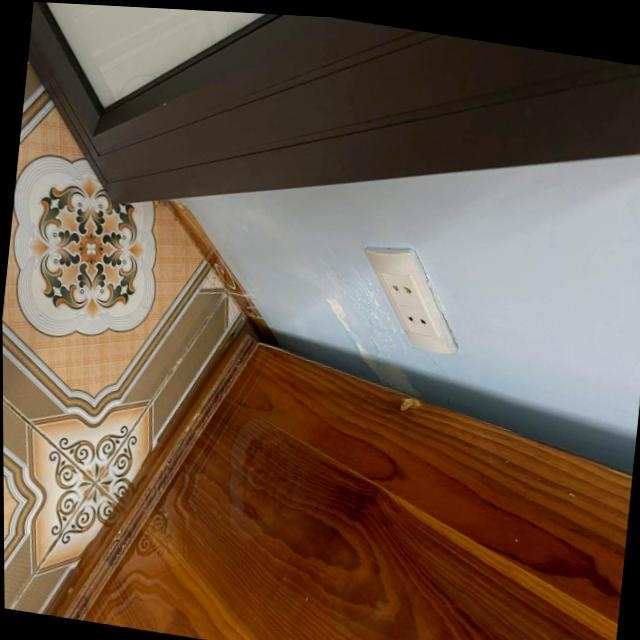outlet: (353, 240, 468, 356)
